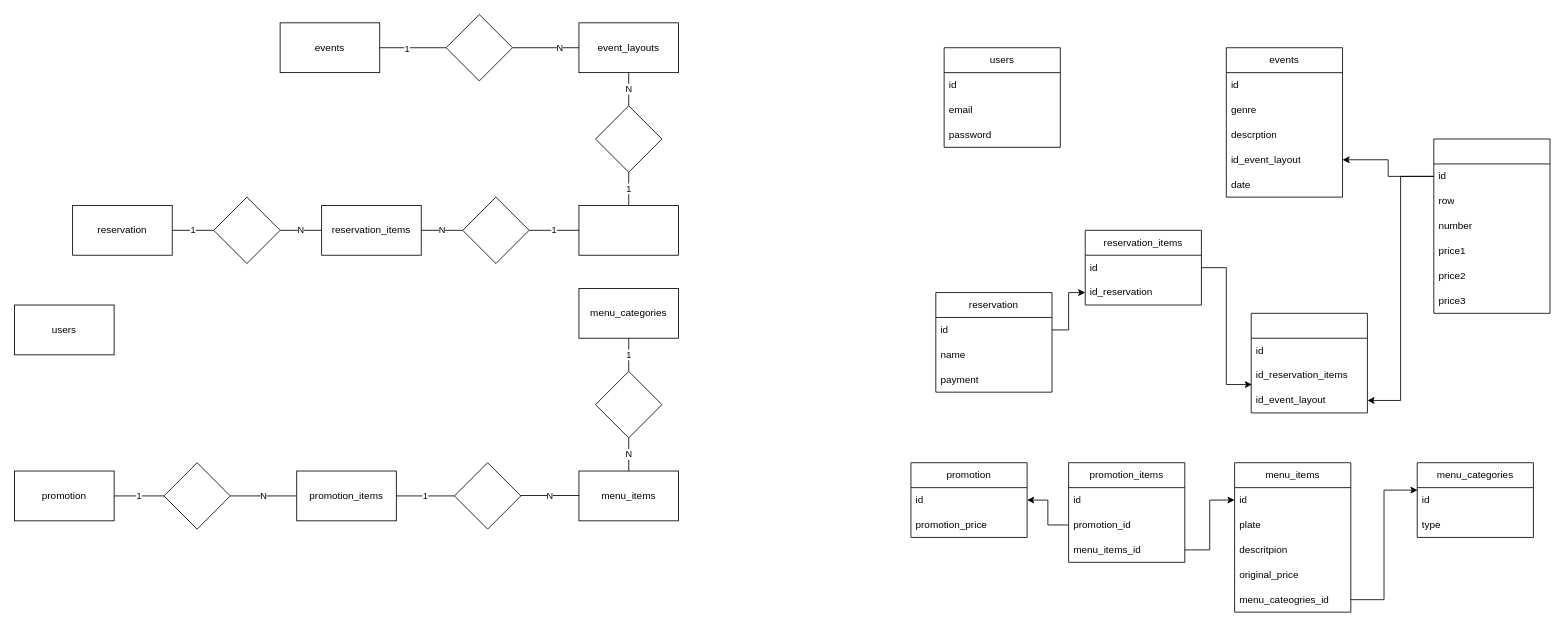
Some shapes in this 1565 by 627 pixel diagram are drawn without their labels. Each missing label, with the box of its shape:
event_layout: (1433, 138, 1550, 313)
seat_or_Table: (1250, 312, 1367, 413)
seat_or_tables: (578, 205, 679, 255)
